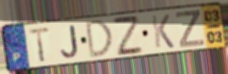D: (85, 19, 115, 61)
J: (59, 24, 80, 60)
K: (150, 13, 176, 50)
T: (27, 25, 52, 64)
Z: (111, 16, 146, 58), (174, 9, 206, 50)
